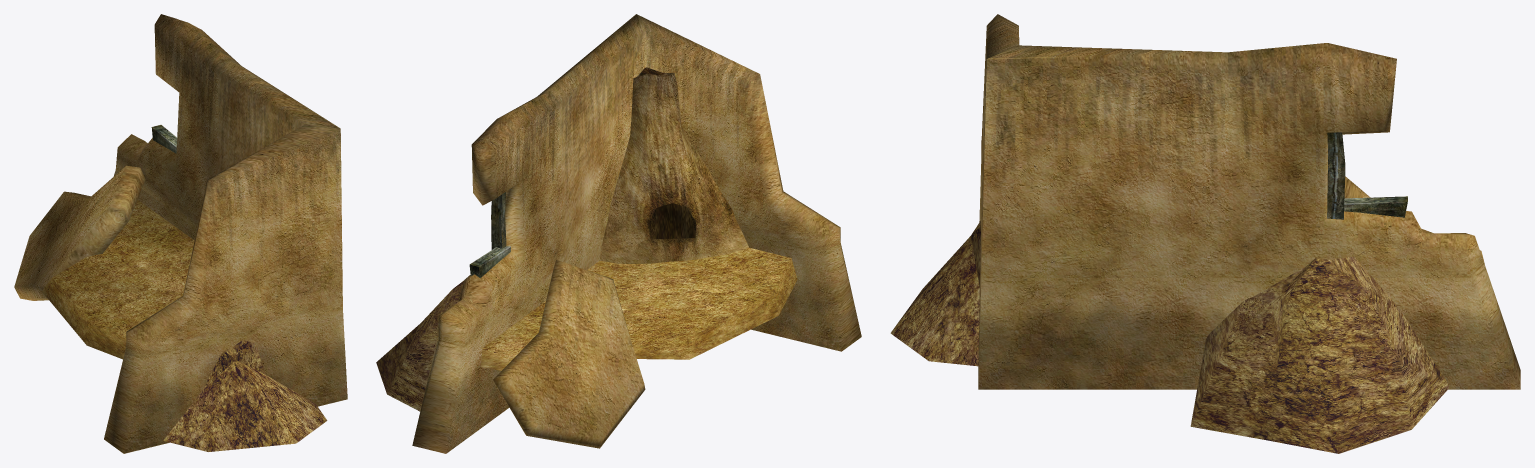
3 renders of one model, left to right at view 1: azimuth 30°, elevation 25°; view 2: azimuth 150°, elevation 25°; view 3: azimuth 270°, elevation 25°, orthographic. The views are drawn at different scales.
Visible parts, largest first — view 1: hr_rn6; view 2: hr_rn6; view 3: hr_rn6.
Part boxes in pixels (x1,y1,x2,y2): hr_rn6: (14, 14, 347, 453); hr_rn6: (376, 14, 861, 453); hr_rn6: (890, 14, 1520, 453).
Bounding box in the file's own units: 5.85 × 4.62 × 7.82.
8 materials, 8 textured.
